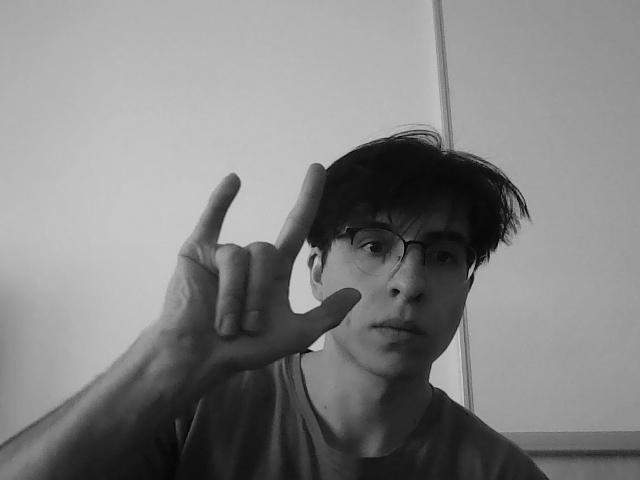I_Love_You: (178, 166, 342, 364)
